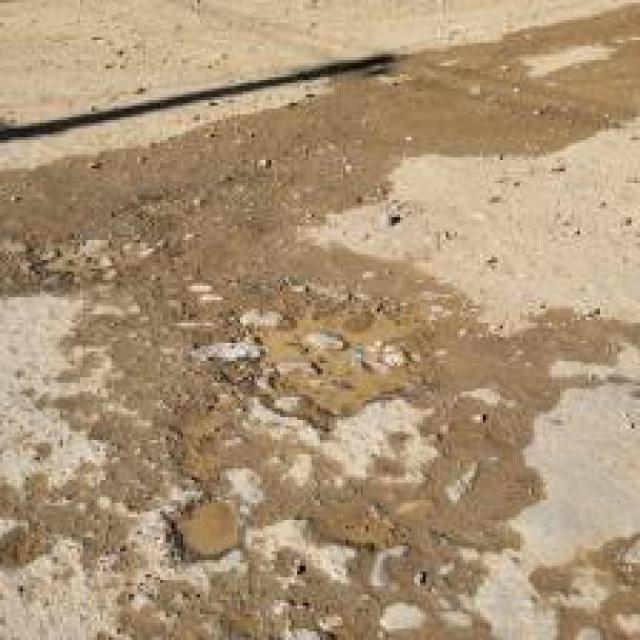BACHE: (228, 292, 425, 422), (171, 498, 246, 559)
